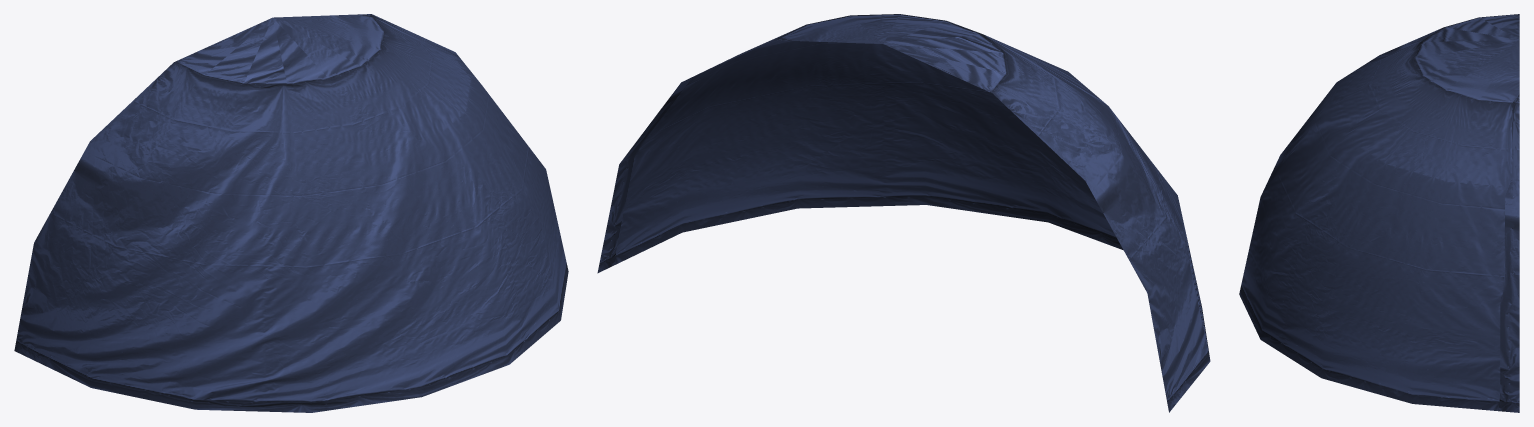
File: SM_Bud_Attach_Canopy_02.FBX
The picture shows the model from 3 angles, left to right: view 1: azimuth 30°, elevation 25°; view 2: azimuth 150°, elevation 25°; view 3: azimuth 270°, elevation 25°; orthographic projection. The views are drawn at different scales.
Visible parts, largest first — view 1: SM_Bud_Attach_Canopy_02; view 2: SM_Bud_Attach_Canopy_02; view 3: SM_Bud_Attach_Canopy_02.
Boxes of the visible parts, x1=… form: SM_Bud_Attach_Canopy_02: x1=14, y1=14, x2=568, y2=412; SM_Bud_Attach_Canopy_02: x1=597, y1=14, x2=1210, y2=412; SM_Bud_Attach_Canopy_02: x1=1239, y1=14, x2=1519, y2=412.
Bounding box in the file's own units: 2.92 × 1.46 × 1.46.
